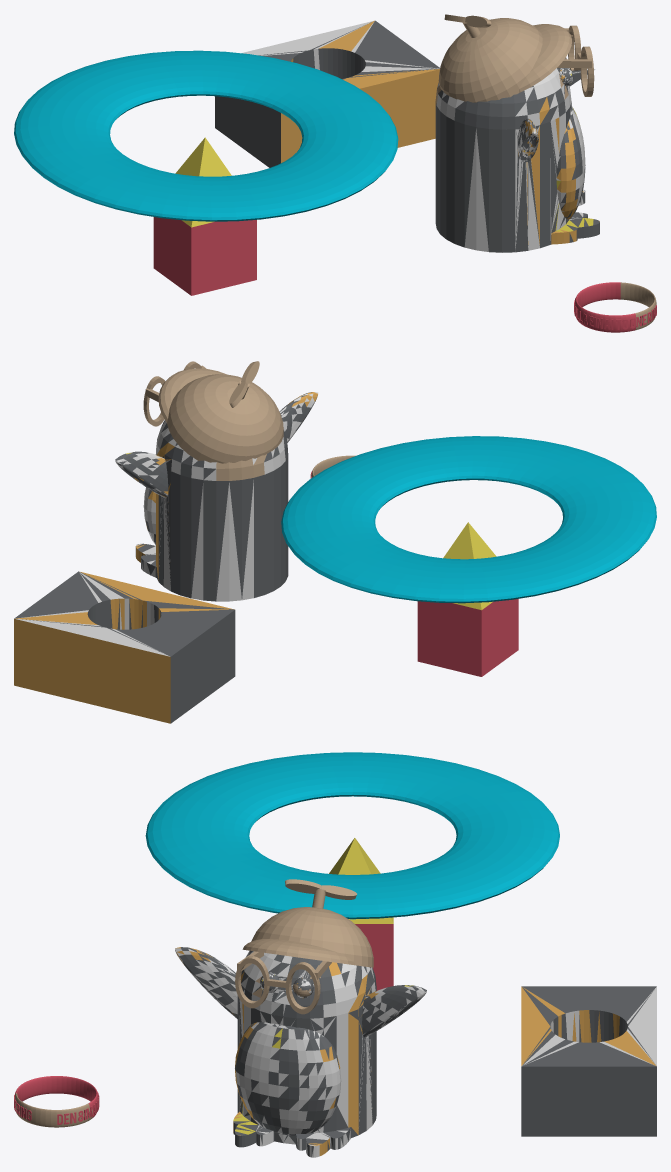
File: Stunning Snaget.glb
The picture shows the model from 3 angles, top to bottom: view 1: azimuth 30°, elevation 25°; view 2: azimuth 150°, elevation 25°; view 3: azimuth 270°, elevation 25°; orthographic projection. The views are drawn at different scales.
Visible parts, largest first — view 1: Mesh_Mesh_head_geo.001_lambert2SG.001; view 2: Mesh_Mesh_head_geo.001_lambert2SG.001; view 3: Mesh_Mesh_head_geo.001_lambert2SG.001.
Part boxes in pixels (x1,y1,x2,y2): Mesh_Mesh_head_geo.001_lambert2SG.001: (14,14,656,332); Mesh_Mesh_head_geo.001_lambert2SG.001: (14,361,656,723); Mesh_Mesh_head_geo.001_lambert2SG.001: (14,752,656,1157).
Size of the model in its own units: 160 by 63.46 by 166.
